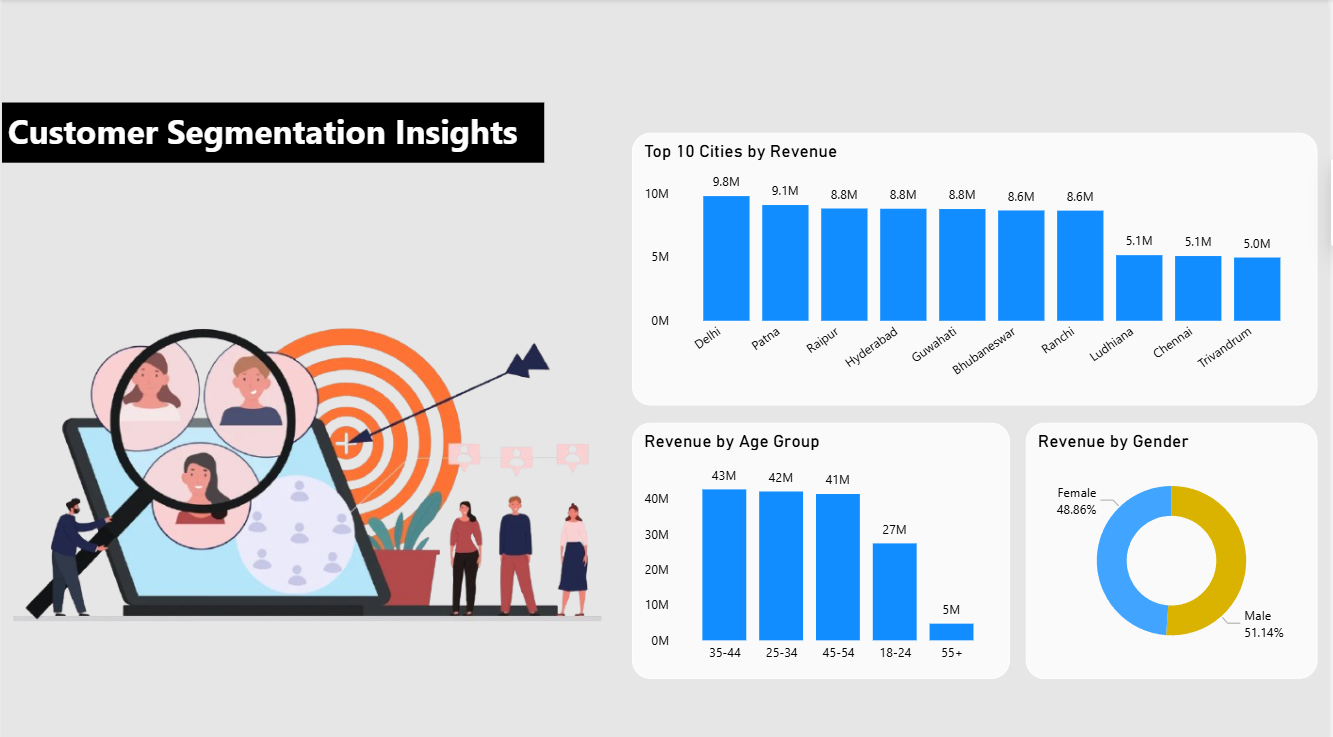

What the dashboard file says about the page in this screenshot:
{"tool":"powerbi","page":{"name":"Customer Segmentation Insights","canvas":[1280,720],"ordinal":2},"visuals":[{"type":"textbox","box":[0,100.2,522.8,57.6],"z":0},{"type":"clusteredColumnChart","title":"Revenue by Age Group","fields":{"Y":["Sum(sales.Revenue)"],"Category":["customers.Age Group"]},"box":[607.9,408.9,365,247],"z":1000},{"type":"donutChart","title":"Revenue by Gender","fields":{"Y":["Sum(sales.Revenue)"],"Category":["customers.Gender"]},"box":[988,408.9,281.3,247],"z":2000},{"type":"image","box":[0,193.5,592.8,507.7],"z":3000},{"type":"clusteredColumnChart","title":"Top 10 Cities by Revenue","fields":{"Y":["Sum(sales.Revenue)"],"Category":["customers.City"]},"box":[607.9,129,661.4,263.5],"z":4000}]}

Visuals, with their boxes in screenshot pixels (x1, y1, x2, y2), scaled from the page's 1280x720 canvas onto the 1333x737 screenshot:
textbox: select_region(0, 103, 544, 162)
"Revenue by Age Group" clusteredColumnChart: select_region(633, 419, 1013, 671)
"Revenue by Gender" donutChart: select_region(1029, 419, 1322, 671)
image: select_region(0, 198, 617, 718)
"Top 10 Cities by Revenue" clusteredColumnChart: select_region(633, 132, 1322, 402)
